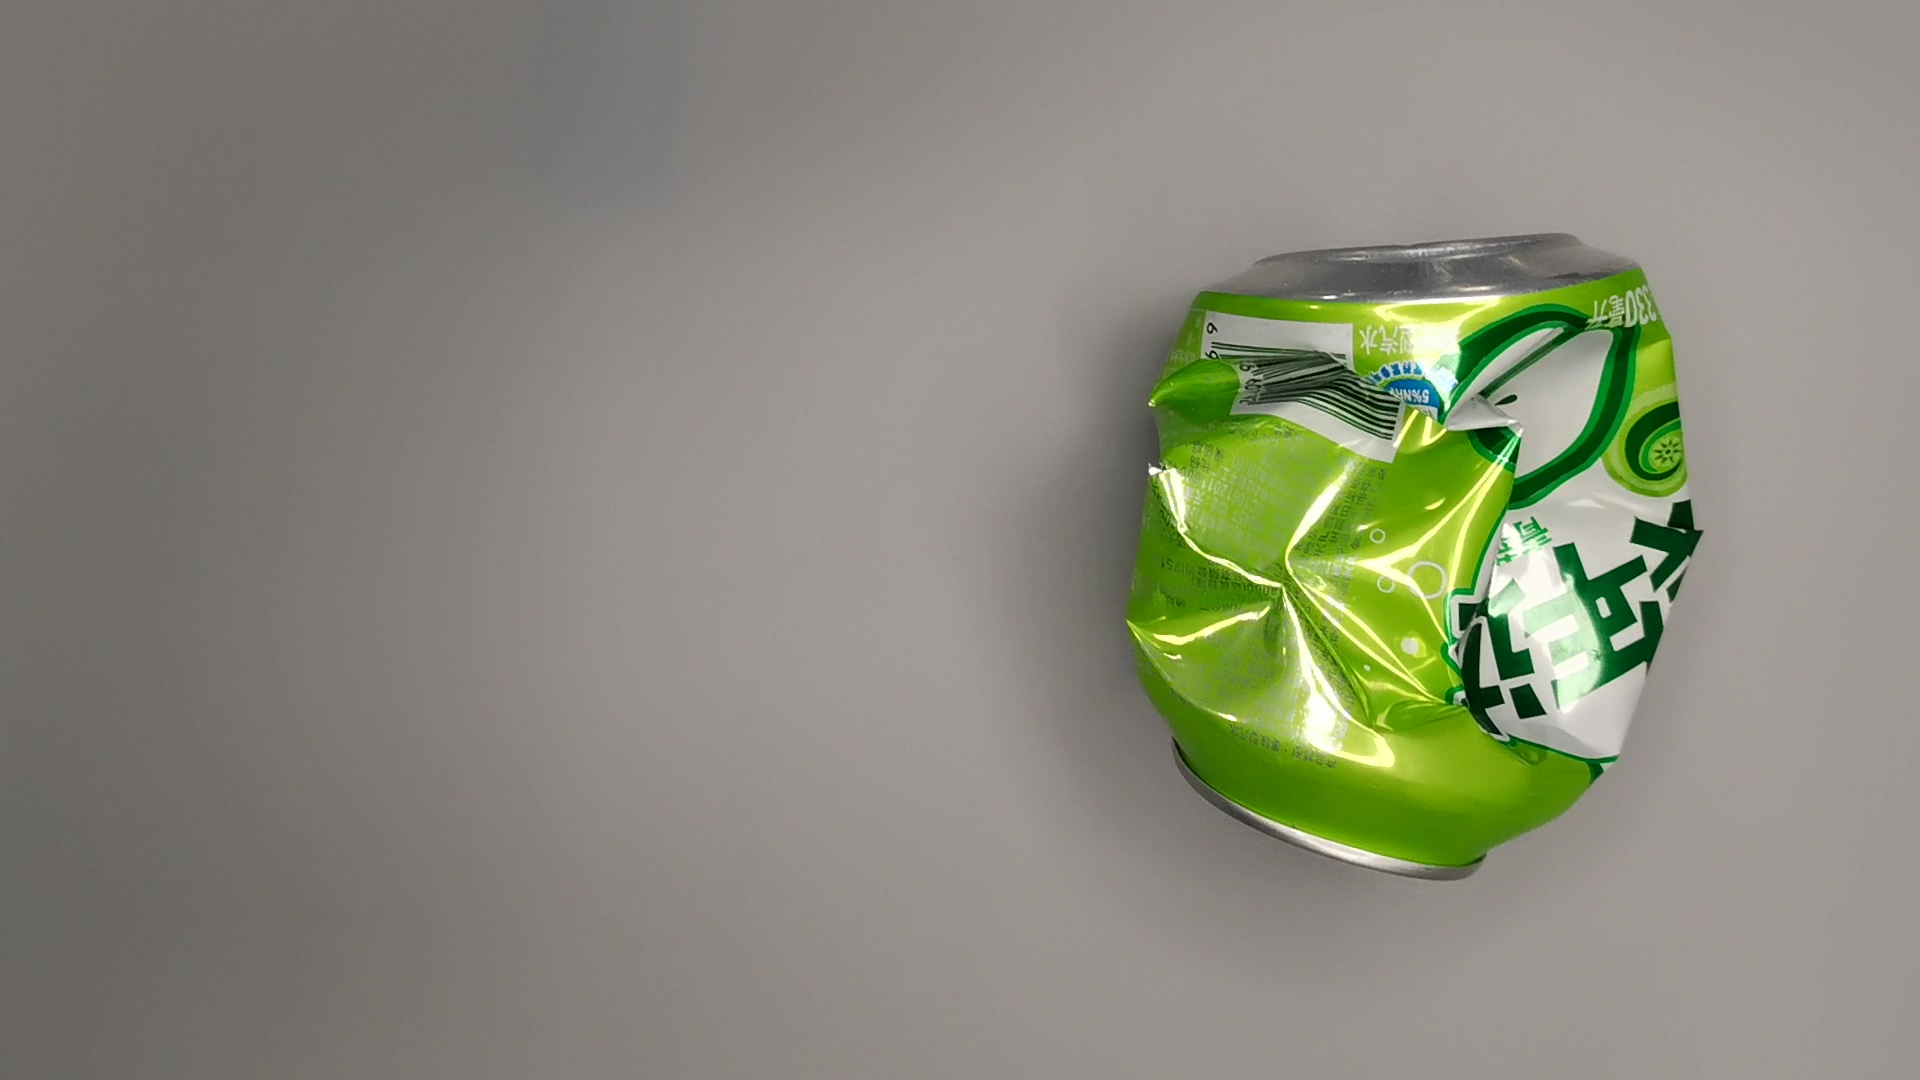can: (1106, 218, 1708, 913)
